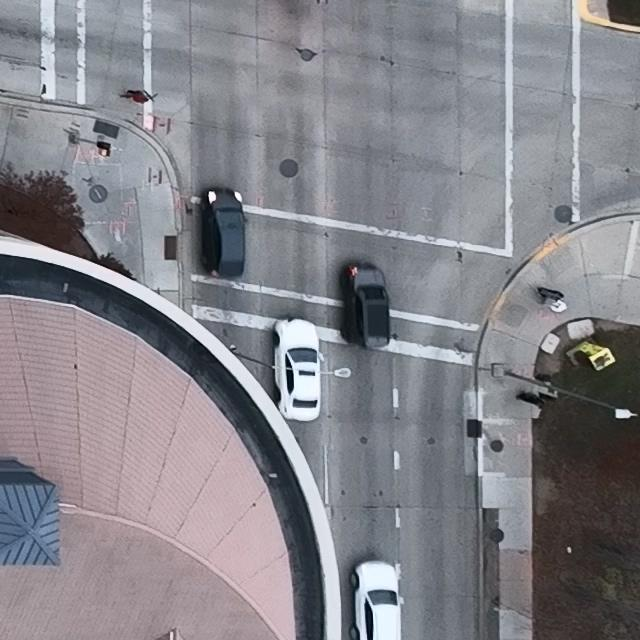car: (271, 318, 325, 423), (348, 559, 404, 640), (340, 262, 391, 349), (199, 189, 247, 279)
